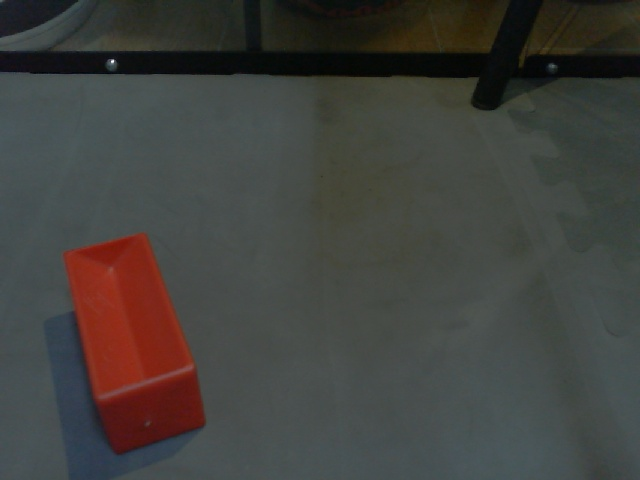RedSample: (62, 231, 207, 454)
